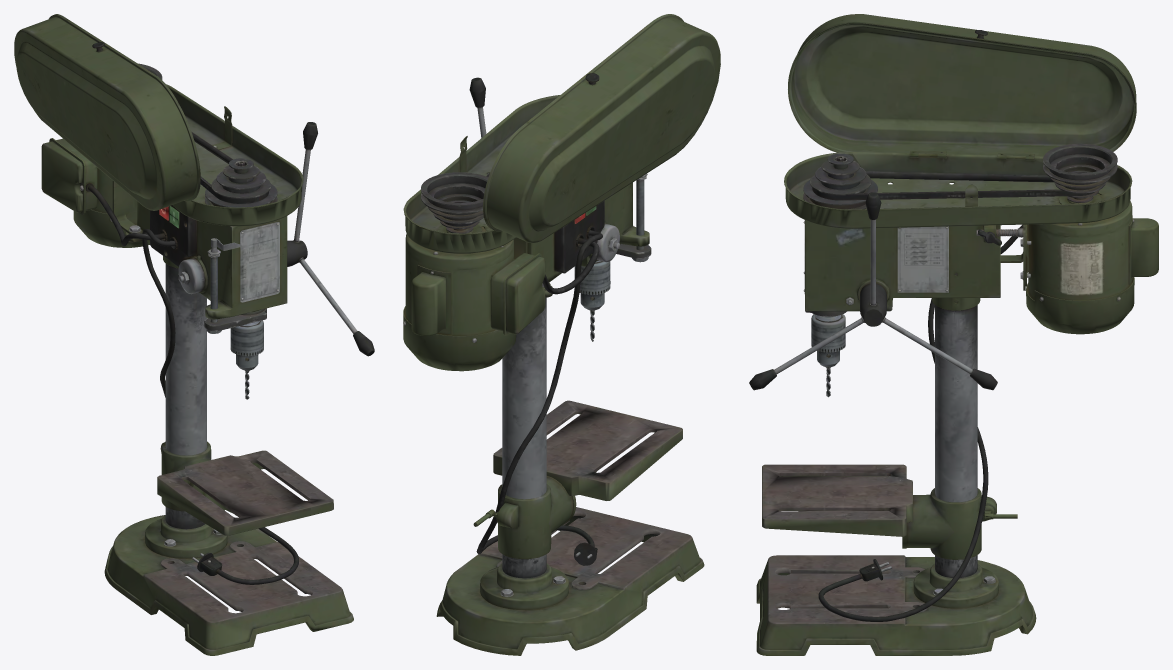
The model's file is drill_press_01.glb.
The picture shows the model from 3 angles, left to right: view 1: azimuth 30°, elevation 25°; view 2: azimuth 150°, elevation 25°; view 3: azimuth 270°, elevation 25°; orthographic projection. The views are drawn at different scales.
Parts seen in each view (by area): view 1: drill_press_01; view 2: drill_press_01; view 3: drill_press_01.
Boxes of the visible parts, box(x1,y1,x2,y2) form: drill_press_01: box(14, 14, 374, 655); drill_press_01: box(403, 14, 720, 655); drill_press_01: box(749, 14, 1158, 655).
Bounding box in the file's own units: 0.3542 × 0.9011 × 0.5987.
1 material, 1 textured.
